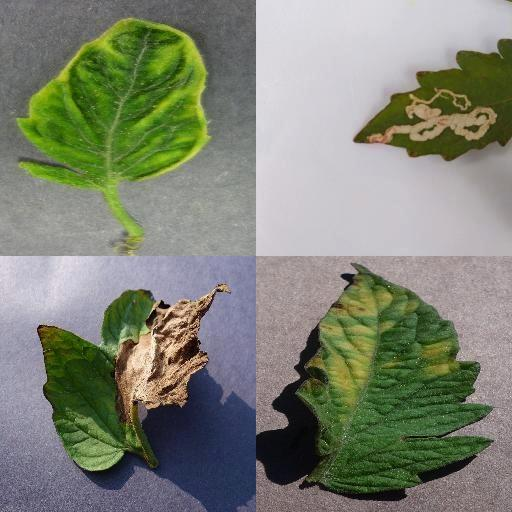Late Blight: (34, 285, 232, 473)
Leaf Miner: (353, 38, 512, 162)
Leaf Mold: (296, 261, 495, 495)
Yellow Leaf Curl Virus: (18, 15, 212, 187)
